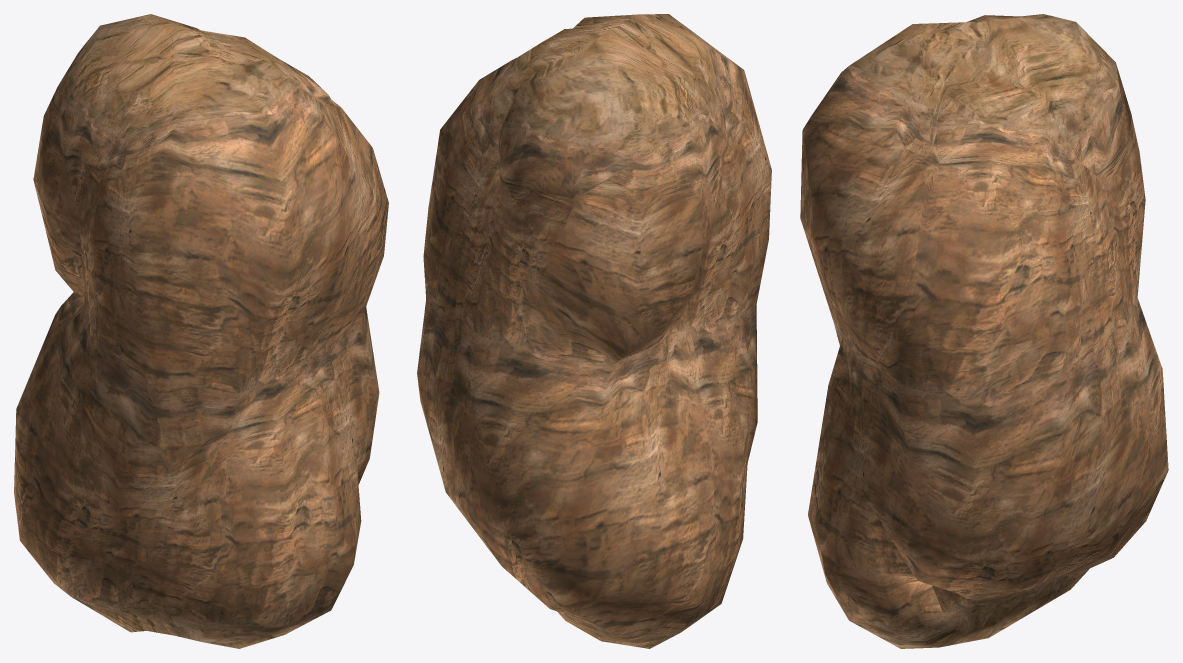
Rendered from rock_tatt_bensmesa_boulder_a3_l0.fbx.
The picture shows the model from 3 angles, left to right: view 1: azimuth 30°, elevation 25°; view 2: azimuth 150°, elevation 25°; view 3: azimuth 270°, elevation 25°; orthographic projection.
Parts seen in each view (by area): view 1: mesh_node; view 2: mesh_node; view 3: mesh_node.
Boxes of the visible parts, <box> form: mesh_node: <box>14,14,388,648</box>; mesh_node: <box>417,14,771,648</box>; mesh_node: <box>800,14,1168,648</box>.
Size of the model in its own units: 2.32 by 4.32 by 2.38.
